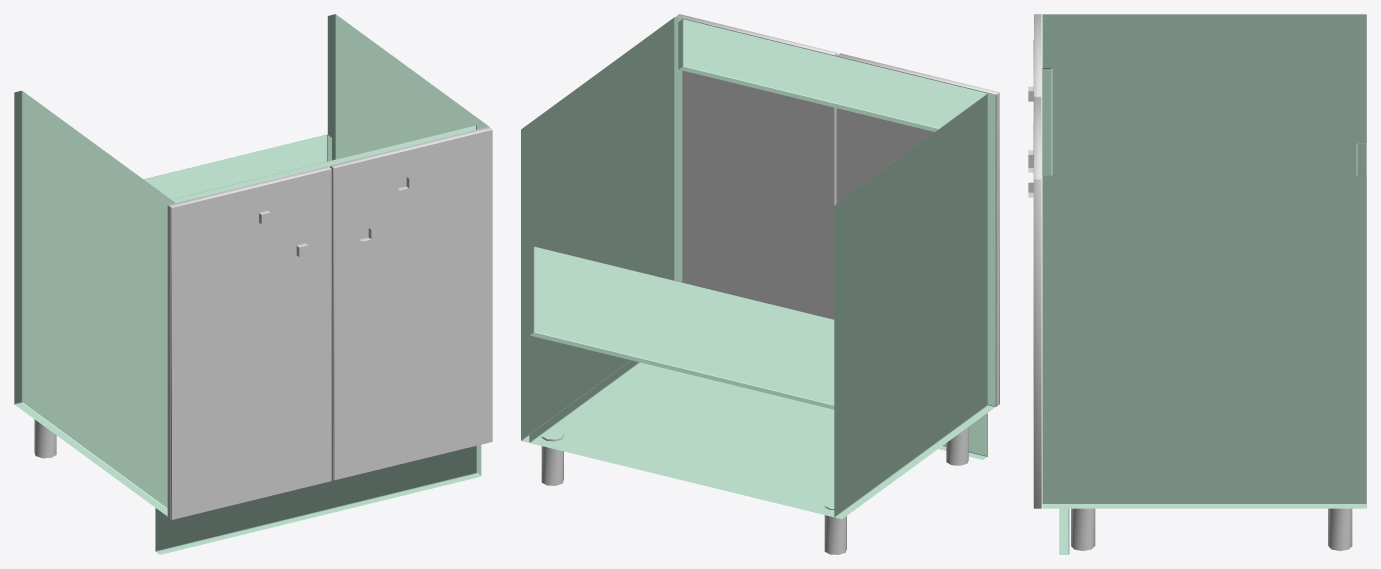
The picture shows the model from 3 angles, left to right: view 1: azimuth 30°, elevation 25°; view 2: azimuth 150°, elevation 25°; view 3: azimuth 270°, elevation 25°; orthographic projection. The views are drawn at different scales.
Visible parts, largest first — view 1: M_1CL_5, M_1CL_1_F.005, M_1CL_1_F.006, M_1CL_1_F_C.005, M_1CL_1_F_C.006, Legs.004; view 2: M_1CL_5, M_1CL_1_F_B.006, M_1CL_1_F_A.006, M_1CL_1_F_A.005, Legs.004, M_1CL_1_F_C.005, M_1CL_1_F.005, M_1CL_1_F.006; view 3: M_1CL_5, M_1CL_1_F.006, Legs.004, M_1CL_1_F.005.
Part boxes in pixels (x1,y1,x2,y2): M_1CL_5: (14,14,488,554); M_1CL_1_F.005: (169,166,331,519); M_1CL_1_F.006: (331,127,492,480); M_1CL_1_F_C.005: (167,205,170,518); M_1CL_1_F_C.006: (330,166,333,479); Legs.004: (34,419,56,458); M_1CL_5: (521,17,995,519); M_1CL_1_F_B.006: (755,36,836,319); M_1CL_1_F_A.006: (676,16,836,300); M_1CL_1_F_A.005: (837,56,998,203); Legs.004: (541,427,968,554); M_1CL_1_F_C.005: (996,93,999,405); M_1CL_1_F.005: (836,53,999,404); M_1CL_1_F.006: (676,14,837,54); M_1CL_5: (1042,14,1366,554); M_1CL_1_F.006: (1033,97,1041,508); Legs.004: (1071,508,1352,550); M_1CL_1_F.005: (1033,14,1041,122).
Bounding box in the file's own units: 8.14 × 8.62 × 7.03.
